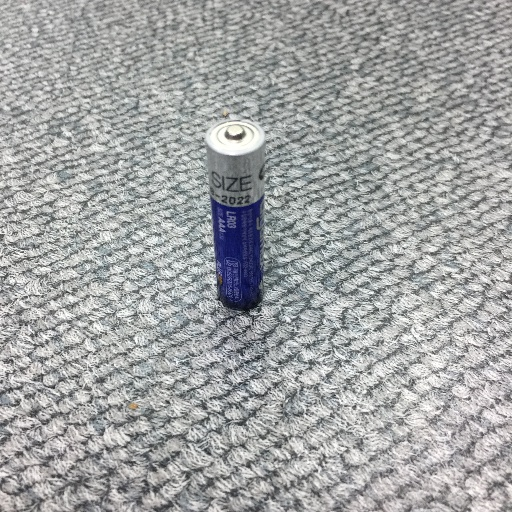Battery_0: (200, 113, 273, 315)
